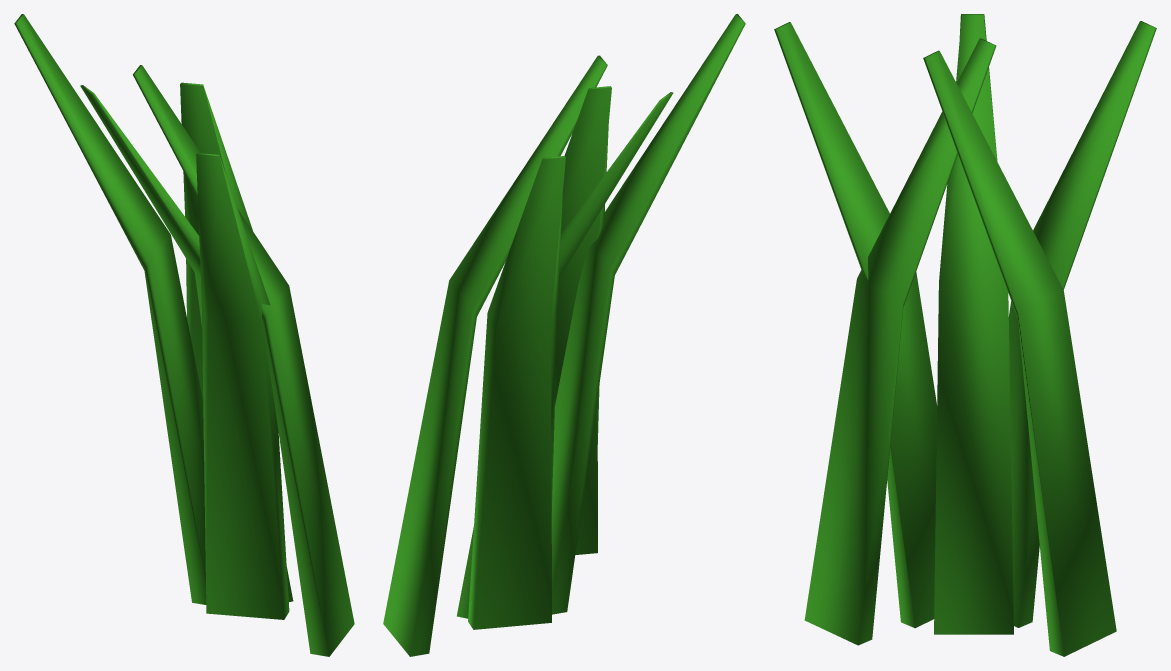
3 renders of one model, left to right at view 1: azimuth 30°, elevation 25°; view 2: azimuth 150°, elevation 25°; view 3: azimuth 270°, elevation 25°, orthographic. The views are drawn at different scales.
Visible parts, largest first — view 1: ot; view 2: ot; view 3: ot.
Part boxes in pixels (x1=…): ot: x1=14, y1=14, x2=354, y2=656; ot: x1=383, y1=14, x2=745, y2=656; ot: x1=774, y1=14, x2=1156, y2=656.
Size of the model in its own units: 58.08 by 129 by 84.05.
